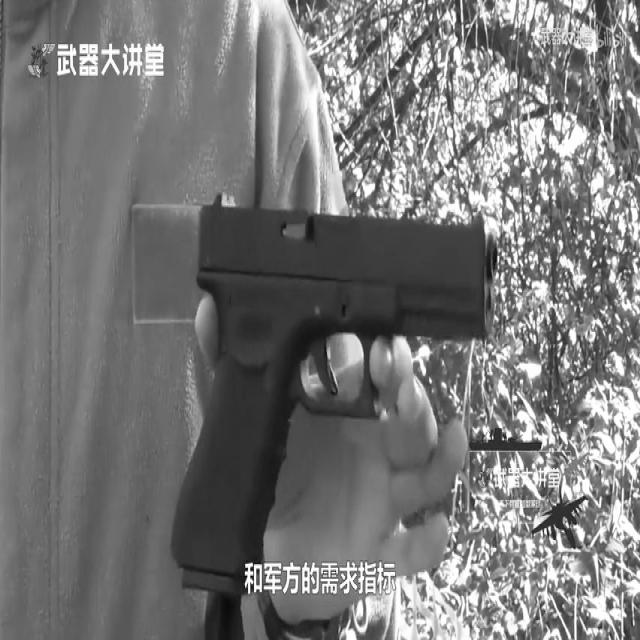Hand-Gun: (127, 105, 530, 640)
